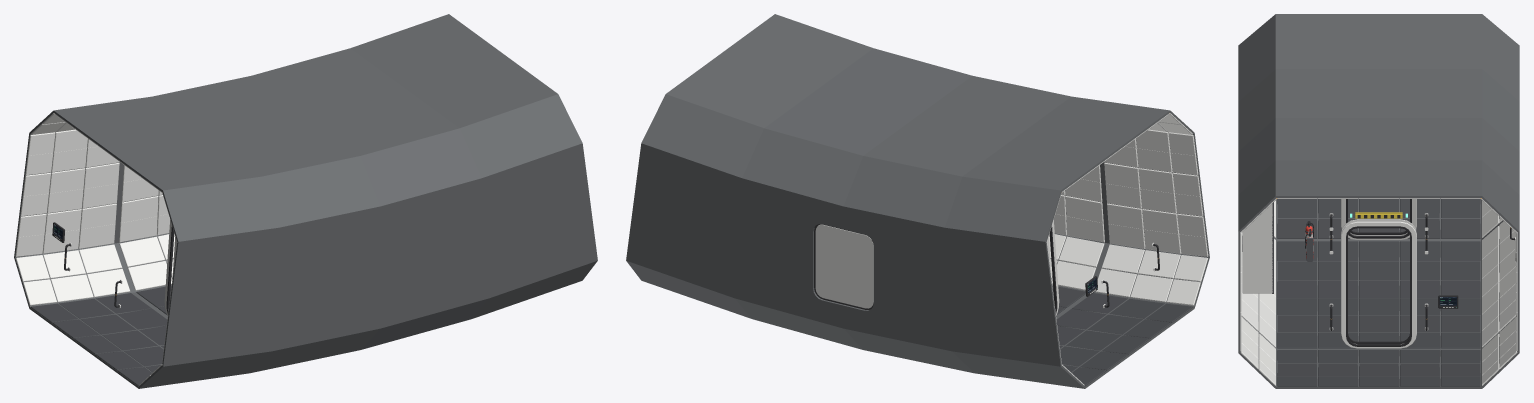
Rendered from ax_grav_09_ring_bulkhead_airlock_interior.glb.
The picture shows the model from 3 angles, left to right: view 1: azimuth 30°, elevation 25°; view 2: azimuth 150°, elevation 25°; view 3: azimuth 270°, elevation 25°; orthographic projection. The views are drawn at different scales.
Parts seen in each view (by area): view 1: pressure_vessel, panel_b9_f04, panel_b9_f02, panel_b10_f02, panel_b10_f01, panel_b11_f01, panel_b9_f01, panel_b9_f00, panel_b10_f00, panel_b11_f00, panel_b8_f04, panel_b8_f02 (+18 smaller); view 2: pressure_vessel, hatch_door_1, panel_b23_f04, panel_b23_f02, panel_b22_f02, panel_b22_f01, panel_b23_f01, panel_b21_f01, panel_b23_f00, panel_b22_f00, panel_b21_f00, panel_b0_f04 (+19 smaller); view 3: pressure_vessel, rack_2_carcass, bulkhead_coaming_door_1_corridor_a, bulkhead_door_trim_door_1_corridor_a, floor_tile_52, floor_tile_51, floor_tile_28, floor_tile_02, floor_tile_50, floor_tile_06, floor_tile_05, floor_tile_29 (+68 smaller).
Part boxes in pixels (x1,y1,x2,y2): pressure_vessel: (14, 14, 597, 388); panel_b9_f04: (119, 196, 158, 242); panel_b9_f02: (78, 203, 116, 248); panel_b10_f02: (82, 163, 119, 208); panel_b10_f01: (47, 168, 85, 213); panel_b11_f01: (51, 129, 87, 172); panel_b9_f01: (42, 209, 81, 253); panel_b9_f00: (15, 214, 46, 256); panel_b10_f00: (20, 172, 50, 216); panel_b11_f00: (25, 132, 55, 175); panel_b8_f04: (119, 236, 165, 267); panel_b8_f02: (79, 244, 122, 273); pressure_vessel: (626, 14, 1209, 388); hatch_door_1: (815, 224, 873, 308); panel_b23_f04: (1065, 196, 1104, 242); panel_b23_f02: (1107, 203, 1145, 248); panel_b22_f02: (1104, 163, 1141, 208); panel_b22_f01: (1138, 168, 1176, 213); panel_b23_f01: (1142, 209, 1181, 253); panel_b21_f01: (1136, 129, 1172, 172); panel_b23_f00: (1177, 214, 1208, 256); panel_b22_f00: (1173, 172, 1203, 216); panel_b21_f00: (1168, 132, 1198, 175); panel_b0_f04: (1058, 236, 1104, 267); pressure_vessel: (1238, 14, 1519, 388); rack_2_carcass: (1242, 203, 1272, 293); bulkhead_coaming_door_1_corridor_a: (1341, 221, 1416, 348); bulkhead_door_trim_door_1_corridor_a: (1346, 226, 1411, 346); floor_tile_52: (1440, 241, 1480, 260); floor_tile_51: (1440, 219, 1480, 238); floor_tile_28: (1359, 241, 1398, 260); floor_tile_02: (1277, 199, 1316, 218); floor_tile_50: (1441, 199, 1480, 218); floor_tile_06: (1277, 280, 1317, 298); floor_tile_05: (1277, 261, 1316, 279); floor_tile_29: (1359, 261, 1398, 279).
Bounding box in the file's own units: 7.32 × 3.27 × 4.26.
25 materials, 1 textured.
